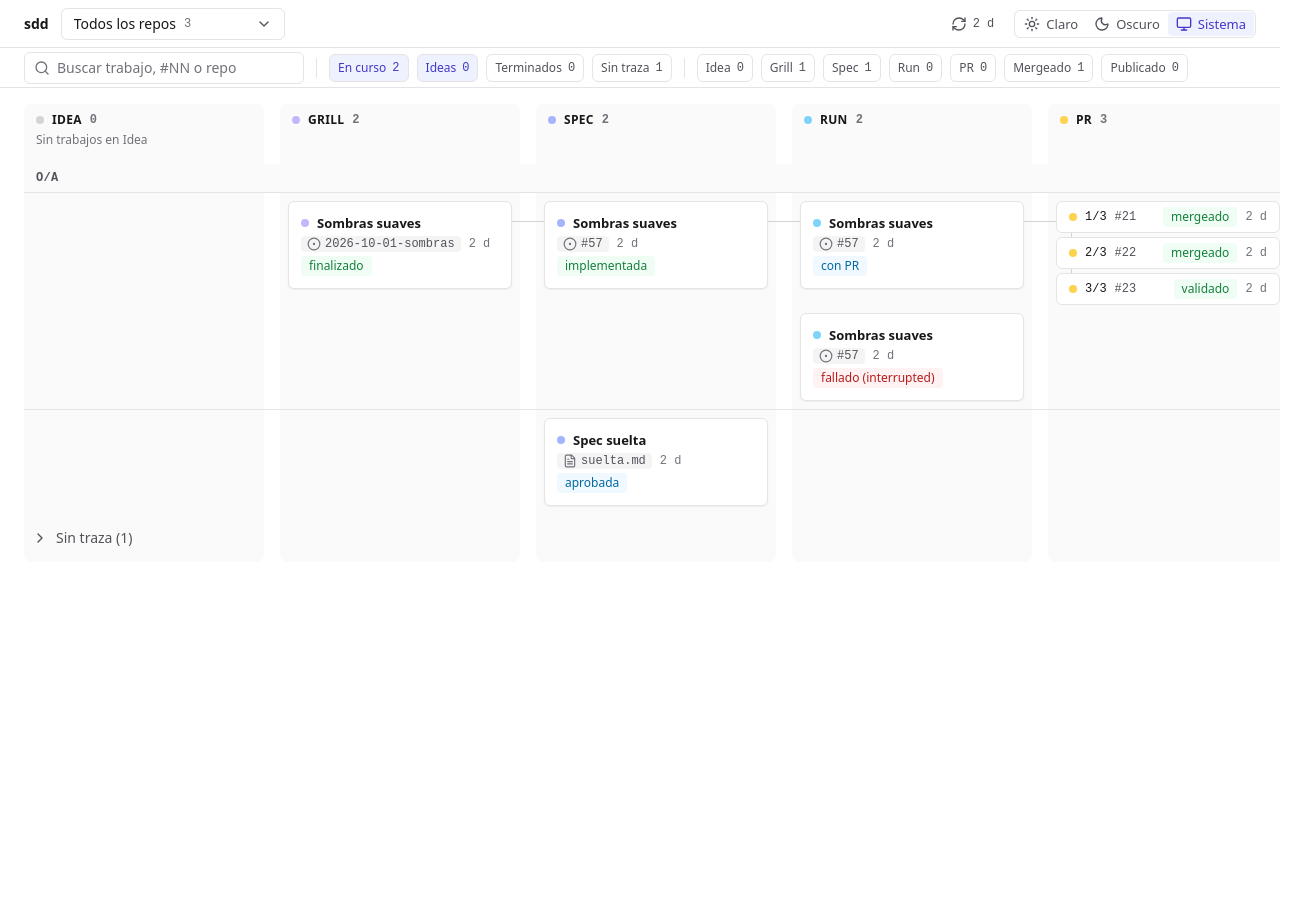
Test: marcas de traza y ancla en el nodo › el chip de referencia del nodo lleva el ícono de ancla por tipo, con aria-label
The image size is (1292, 900).
Click the button "Sin traza (1)".
click(82, 538)  # box [24,522,140,554]
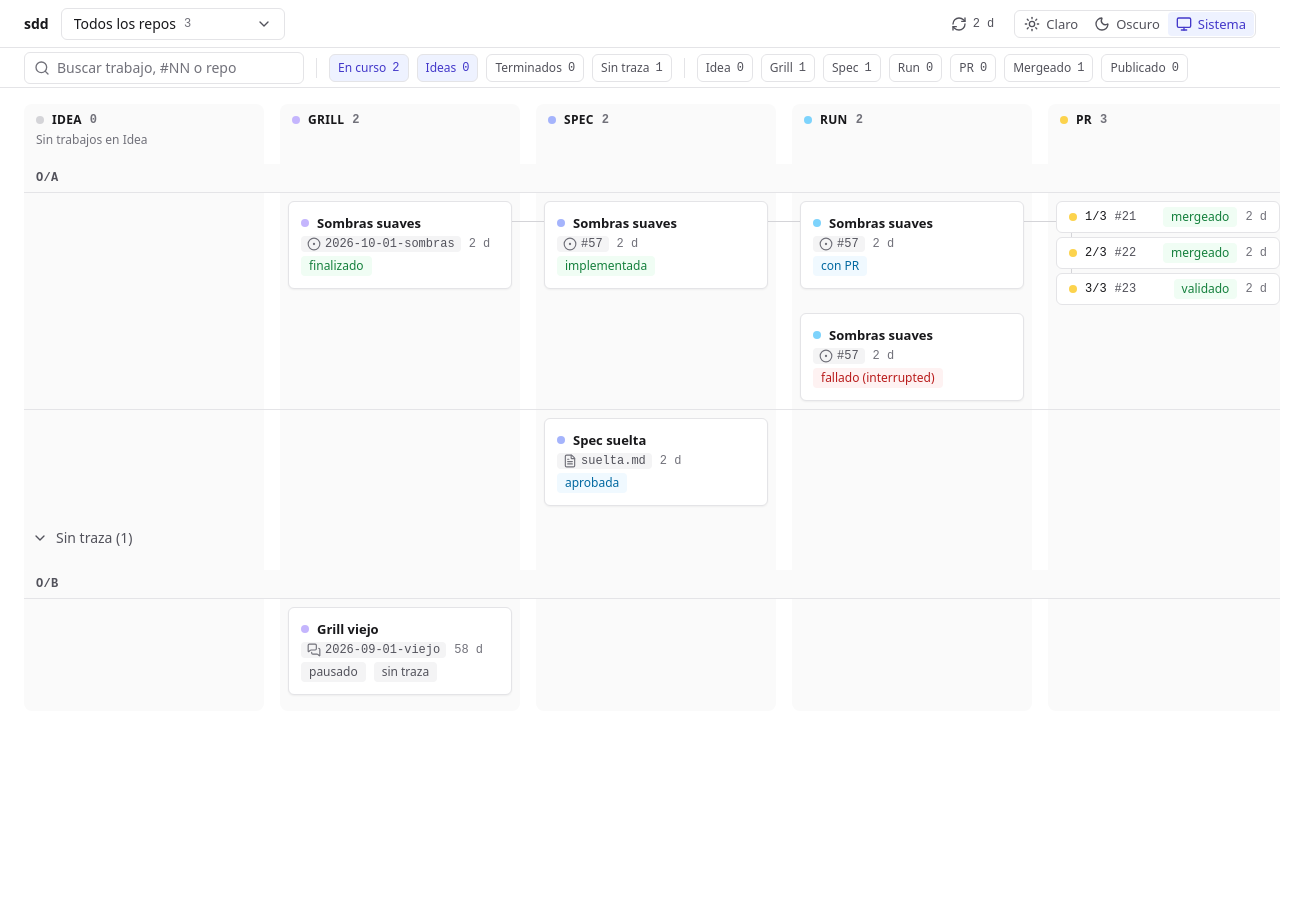
Expected: the 1st picture named "ancla: issue" is shown, [307,237,321,251]
Now the picture named "ancla: grill" is shown, box [307,643,321,657]
